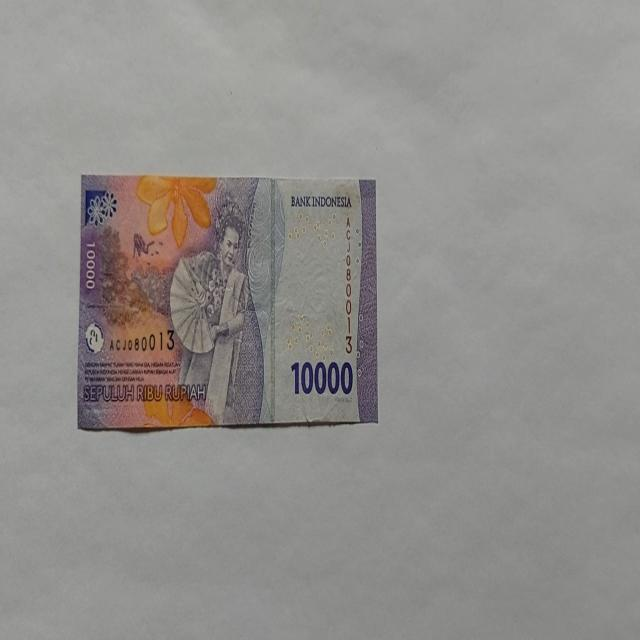sepuluh ribu rupiah: (77, 172, 378, 432)
